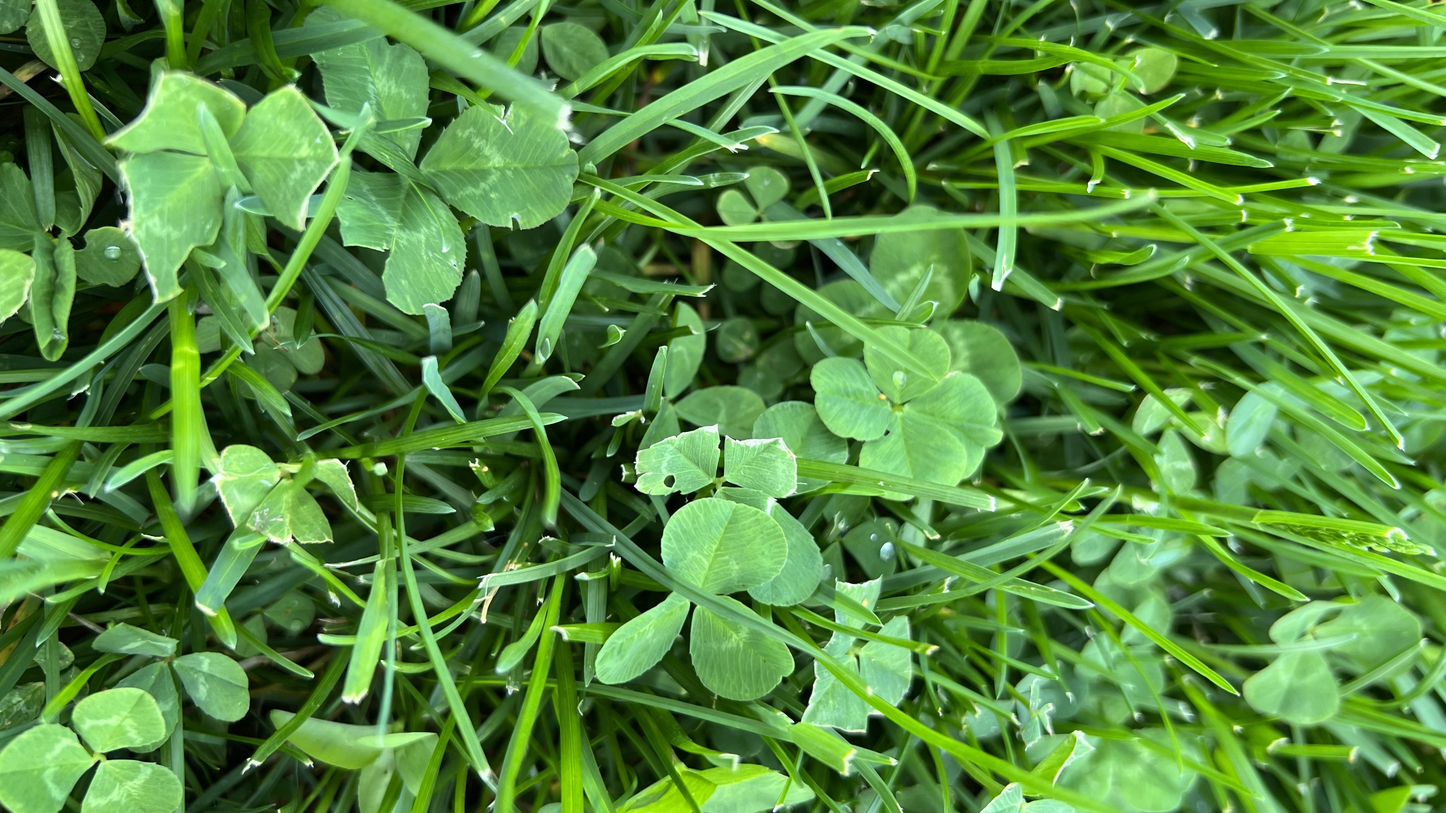4-Leaf-Clovers: (581, 253, 884, 356)
